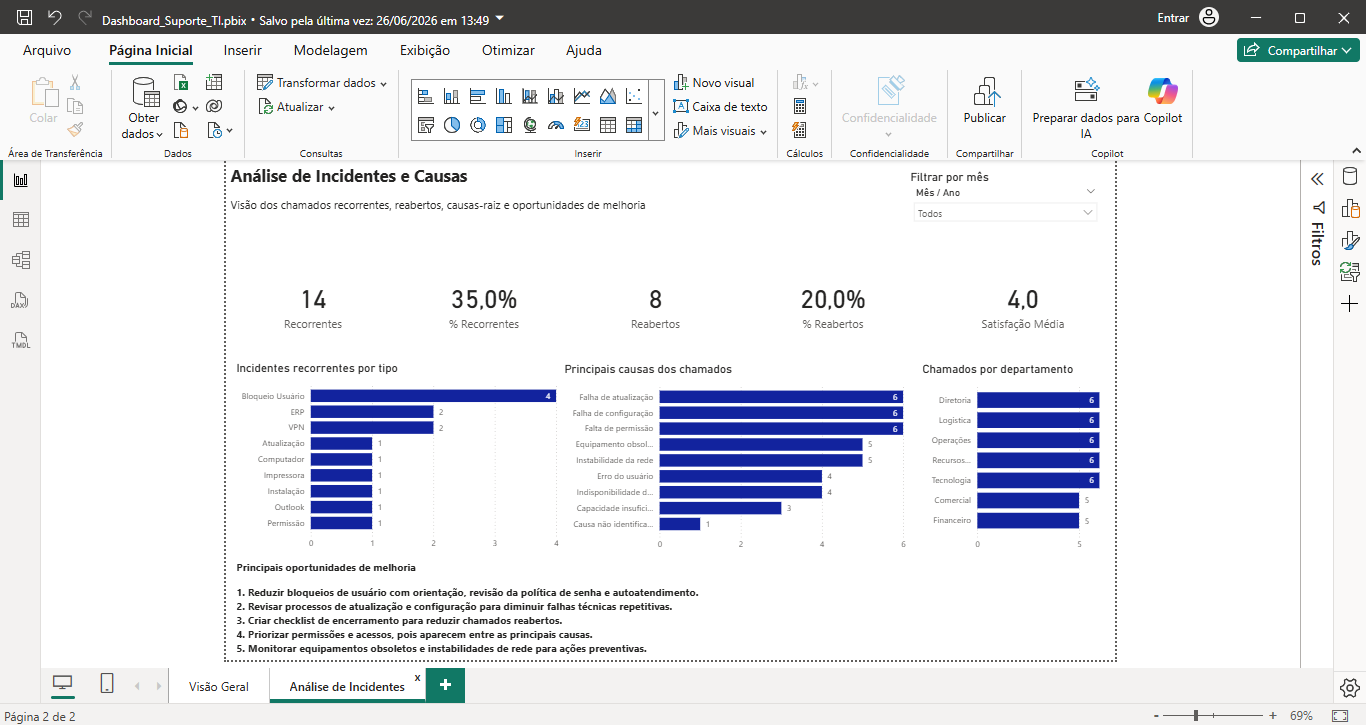

Layout of this report page (visuals, bound fields, positions):
{"tool":"powerbi","page":{"name":"Análise de Incidentes","canvas":[1280,720],"ordinal":1},"visuals":[{"type":"card","fields":{"Values":["Chamados.Chamados Recorrentes"]},"box":[8.6,126.1,233.3,162.7],"z":0},{"type":"card","fields":{"Values":["Chamados.% Chamados Recorrentes"]},"box":[258.4,120.4,227.5,174.2],"z":1000},{"type":"clusteredBarChart","title":"Incidentes recorrentes por tipo","fields":{"Category":["Chamados.Subcategoria"],"Y":["Chamados.Total Chamados"]},"box":[10.1,289.4,488.2,280.8],"z":2000},{"type":"clusteredBarChart","title":"Principais causas dos chamados","fields":{"Category":["Chamados.Causa_Raiz"],"Y":["Chamados.Total Chamados"]},"box":[482.4,290.9,515.5,280.8],"z":3000},{"type":"card","fields":{"Values":["Chamados.Chamados Reabertos"]},"box":[502.5,126.1,231.8,162.7],"z":4000},{"type":"card","fields":{"Values":["Chamados.% Chamados Reabertos"]},"box":[750.8,120.4,247.7,174.2],"z":5000},{"type":"card","fields":{"Values":["Chamados.Nota Média Satisfação"]},"box":[1015,126.1,265,162.7],"z":6000},{"type":"clusteredBarChart","title":"Chamados por departamento","fields":{"Category":["Chamados.Departamento"],"Y":["Chamados.Total Chamados"]},"box":[997.9,290.9,282.2,280.8],"z":7000},{"type":"textbox","box":[10.1,570.2,1042.6,149.8],"z":8000},{"type":"textbox","box":[1.4,0,780.5,96.5],"z":9000},{"type":"slicer","title":"Filtrar por mês","fields":{"Values":["Calendario.Ano_Mes"]},"box":[980.6,14.4,283.7,82.1],"z":10000}]}

Visuals, with their boxes on the page's 1280x720 design canvas (x1, y1, x2, y2). These are canvas units, not pixel positions in the 1366x725 screenshot, which may show the page scaled, cropped or inside an application window:
card - Chamados.Chamados Recorrentes: box(9, 126, 242, 289)
card - Chamados.% Chamados Recorrentes: box(258, 120, 486, 295)
"Incidentes recorrentes por tipo" clusteredBarChart: box(10, 289, 498, 570)
"Principais causas dos chamados" clusteredBarChart: box(482, 291, 998, 572)
card - Chamados.Chamados Reabertos: box(502, 126, 734, 289)
card - Chamados.% Chamados Reabertos: box(751, 120, 998, 295)
card - Chamados.Nota Média Satisfação: box(1015, 126, 1280, 289)
"Chamados por departamento" clusteredBarChart: box(998, 291, 1280, 572)
textbox: box(10, 570, 1053, 720)
textbox: box(1, 0, 782, 96)
"Filtrar por mês" slicer: box(981, 14, 1264, 96)
